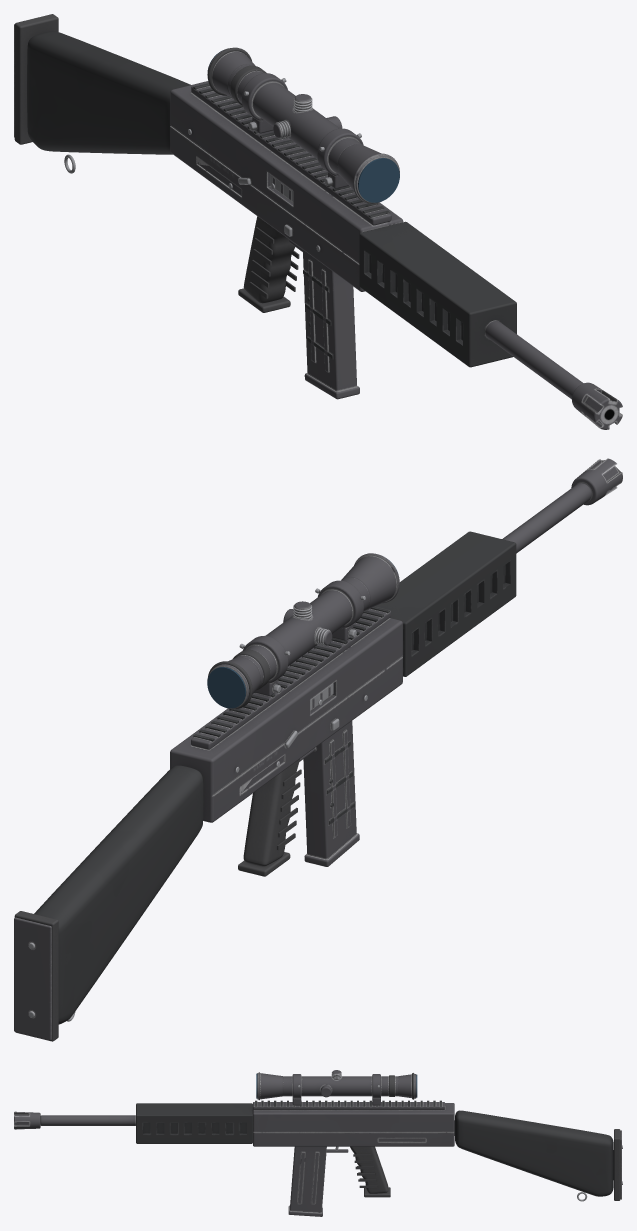
The picture shows the model from 3 angles, top to bottom: view 1: azimuth 30°, elevation 25°; view 2: azimuth 150°, elevation 25°; view 3: azimuth 270°, elevation 25°; orthographic projection. The views are drawn at different scales.
Visible parts, largest first — view 1: g3sg1; view 2: g3sg1; view 3: g3sg1.
Boxes of the visible parts, x1=… form: g3sg1: x1=14, y1=14, x2=622, y2=429; g3sg1: x1=14, y1=458, x2=622, y2=1041; g3sg1: x1=14, y1=1070, x2=622, y2=1216.
Size of the model in its own units: 0.0589 by 0.2962 by 1.15.
